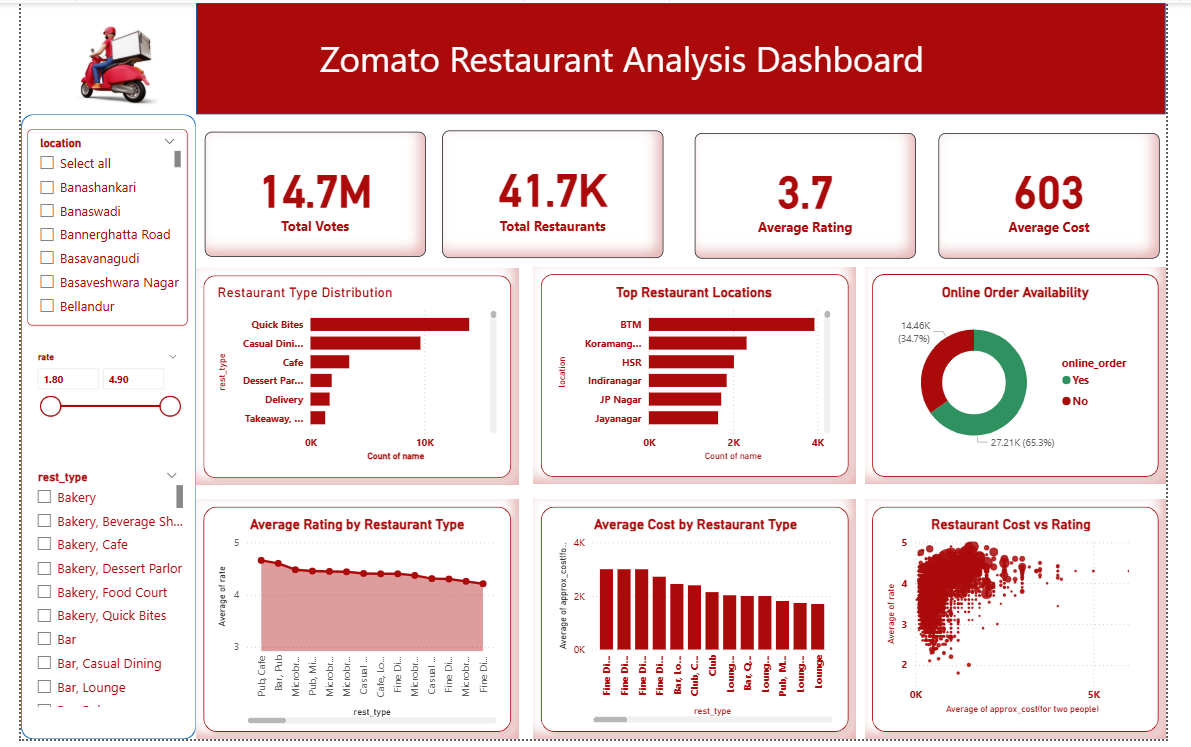

What the dashboard file says about the page in this screenshot:
{"tool":"powerbi","page":{"name":"Page 1","canvas":[1400,900],"ordinal":0},"visuals":[{"type":"shape","box":[214.1,0,1185.5,136.3],"z":0},{"type":"image","box":[0,0,172.1,155],"z":501},{"type":"textbox","box":[348.4,34.1,772.3,75.4],"z":503},{"type":"card","fields":{"Values":["_measures.Total Votes"]},"box":[224.7,157.4,270.6,152.9],"z":504},{"type":"card","fields":{"Values":["_measures.Total Restaurants"]},"box":[515.9,155.7,270.6,155.7],"z":508},{"type":"card","fields":{"Values":["_measures.Average Rating"]},"box":[823.4,159.6,270.6,153.8],"z":509},{"type":"card","fields":{"Values":["_measures.Average Cost"]},"box":[1121.3,159.6,270.6,153.8],"z":510},{"type":"shape","box":[214,324.1,394.4,266],"z":511},{"type":"clusteredBarChart","title":"Restaurant Type Distribution","fields":{"Y":["CountNonNull(zomato_analysis zomato_restaurants.name)"],"Category":["zomato_analysis zomato_restaurants.rest_type"]},"box":[235.4,343.9,351.6,221.6],"z":512},{"type":"shape","box":[626.7,322.5,394.4,266],"z":513},{"type":"shape","box":[1031.8,322.5,368.4,266],"z":514},{"type":"clusteredBarChart","title":"Top Restaurant Locations","fields":{"Category":["zomato_analysis zomato_restaurants.location"],"Y":["CountNonNull(zomato_analysis zomato_restaurants.name)"]},"box":[651.2,343.9,343.9,221.6],"z":515},{"type":"donutChart","title":"Online Order Availability","fields":{"Category":["zomato_analysis zomato_restaurants.online_order"],"Y":["CountNonNull(zomato_analysis zomato_restaurants.name)"]},"box":[1053.2,343.9,325.6,221.6],"z":516},{"type":"shape","box":[214,606.8,394.4,293.5],"z":517},{"type":"areaChart","title":"Average Rating by Restaurant Type","fields":{"Category":["zomato_analysis zomato_restaurants.rest_type"],"Y":["Avg(zomato_analysis zomato_restaurants.rate)"]},"box":[235.4,626.7,351.6,259.9],"z":518},{"type":"shape","box":[626.7,606.8,394.4,293.5],"z":519},{"type":"clusteredColumnChart","title":"Average Cost by Restaurant Type","fields":{"Category":["zomato_analysis zomato_restaurants.rest_type"],"Y":["Avg(zomato_analysis zomato_restaurants.approx_cost(for two people))"]},"box":[652.1,626.8,344.6,258.9],"z":520},{"type":"shape","box":[1031.8,606.8,368.4,293.5],"z":521},{"type":"scatterChart","title":"Restaurant Cost vs Rating","fields":{"X":["Avg(zomato_analysis zomato_restaurants.approx_cost(for two people))"],"Y":["Avg(zomato_analysis zomato_restaurants.rate)"],"Size":["Sum(zomato_analysis zomato_restaurants.votes)"],"Category":["zomato_analysis zomato_restaurants.name"]},"box":[1053.2,626.7,314.9,247.6],"z":522},{"type":"shape","box":[0,136,214,764.3],"z":523},{"type":"slicer","fields":{"Values":["zomato_analysis zomato_restaurants.location"]},"box":[7.9,154.6,195.7,239.9],"z":524},{"type":"slicer","fields":{"Values":["zomato_analysis zomato_restaurants.rate"]},"box":[7.9,421.3,195.7,112],"z":525},{"type":"slicer","fields":{"Values":["zomato_analysis zomato_restaurants.rest_type"]},"box":[7.9,564.9,195.7,299.8],"z":526}]}

Visuals, with their boxes in screenshot pixels (x1, y1, x2, y2), scaled from the page's 1400x900 canvas onto the 1191x747 screenshot:
shape: Rect(182, 0, 1190, 113)
image: Rect(0, 0, 146, 129)
textbox: Rect(296, 28, 953, 91)
card - _measures.Total Votes: Rect(191, 131, 421, 258)
card - _measures.Total Restaurants: Rect(439, 129, 669, 258)
card - _measures.Average Rating: Rect(700, 132, 931, 260)
card - _measures.Average Cost: Rect(954, 132, 1184, 260)
shape: Rect(182, 269, 518, 490)
"Restaurant Type Distribution" clusteredBarChart: Rect(200, 285, 499, 469)
shape: Rect(533, 268, 869, 488)
shape: Rect(878, 268, 1190, 488)
"Top Restaurant Locations" clusteredBarChart: Rect(554, 285, 847, 469)
"Online Order Availability" donutChart: Rect(896, 285, 1173, 469)
shape: Rect(182, 504, 518, 746)
"Average Rating by Restaurant Type" areaChart: Rect(200, 520, 499, 736)
shape: Rect(533, 504, 869, 746)
"Average Cost by Restaurant Type" clusteredColumnChart: Rect(555, 520, 848, 735)
shape: Rect(878, 504, 1190, 746)
"Restaurant Cost vs Rating" scatterChart: Rect(896, 520, 1164, 726)
shape: Rect(0, 113, 182, 746)
slicer - zomato_analysis zomato_restaurants.location: Rect(7, 128, 173, 327)
slicer - zomato_analysis zomato_restaurants.rate: Rect(7, 350, 173, 443)
slicer - zomato_analysis zomato_restaurants.rest_type: Rect(7, 469, 173, 718)
